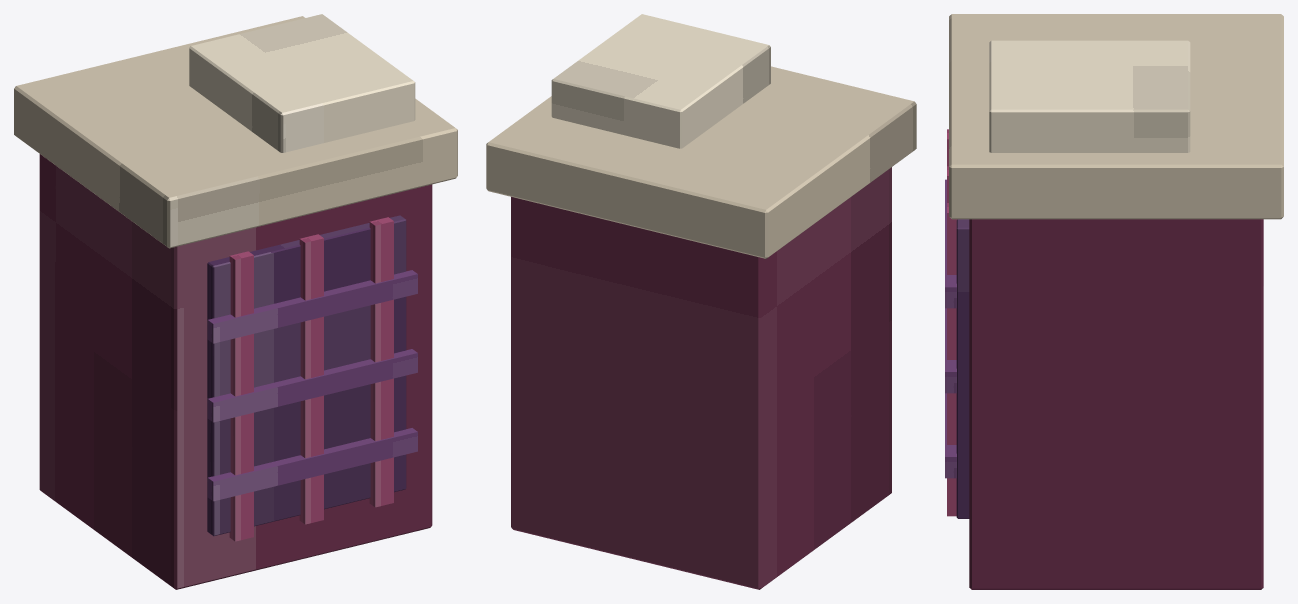
The model's file is laundry_hamper_violet.glb.
The picture shows the model from 3 angles, left to right: view 1: azimuth 30°, elevation 25°; view 2: azimuth 150°, elevation 25°; view 3: azimuth 270°, elevation 25°; orthographic projection. The views are drawn at different scales.
Parts seen in each view (by area): view 1: HamperBody, HamperRim, HamperInset, FoldedCloth, HamperWeaveV_-0.13, HamperWeaveV_0.13, HamperWeaveV_0.0, HamperWeaveH_0.48, HamperWeaveH_0.34, HamperWeaveH_0.2; view 2: HamperBody, HamperRim, FoldedCloth; view 3: HamperBody, HamperRim, FoldedCloth, HamperInset, HamperWeaveV_0.13, HamperWeaveH_0.48, HamperWeaveH_0.2, HamperWeaveH_0.34.
Part boxes in pixels (x1,y1,x2,y2): HamperBody: [39, 154, 432, 589]; HamperRim: [14, 16, 457, 248]; HamperInset: [207, 215, 406, 536]; FoldedCloth: [189, 14, 415, 152]; HamperWeaveV_-0.13: [229, 251, 253, 541]; HamperWeaveV_0.13: [369, 217, 393, 507]; HamperWeaveV_0.0: [299, 234, 323, 524]; HamperWeaveH_0.48: [207, 270, 417, 343]; HamperWeaveH_0.34: [207, 349, 417, 422]; HamperWeaveH_0.2: [207, 428, 417, 501]; HamperBody: [511, 167, 891, 589]; HamperRim: [486, 66, 916, 258]; FoldedCloth: [551, 14, 770, 148]; HamperBody: [969, 219, 1263, 589]; HamperRim: [949, 14, 1283, 219]; FoldedCloth: [989, 40, 1190, 152]; HamperInset: [956, 219, 969, 518]; HamperWeaveV_0.13: [947, 203, 957, 516]; HamperWeaveH_0.48: [945, 179, 956, 308]; HamperWeaveH_0.2: [945, 393, 956, 478]; HamperWeaveH_0.34: [945, 308, 956, 393].
Size of the model in its own units: 0.54 by 0.785 by 0.506.
1 material, 1 textured.
